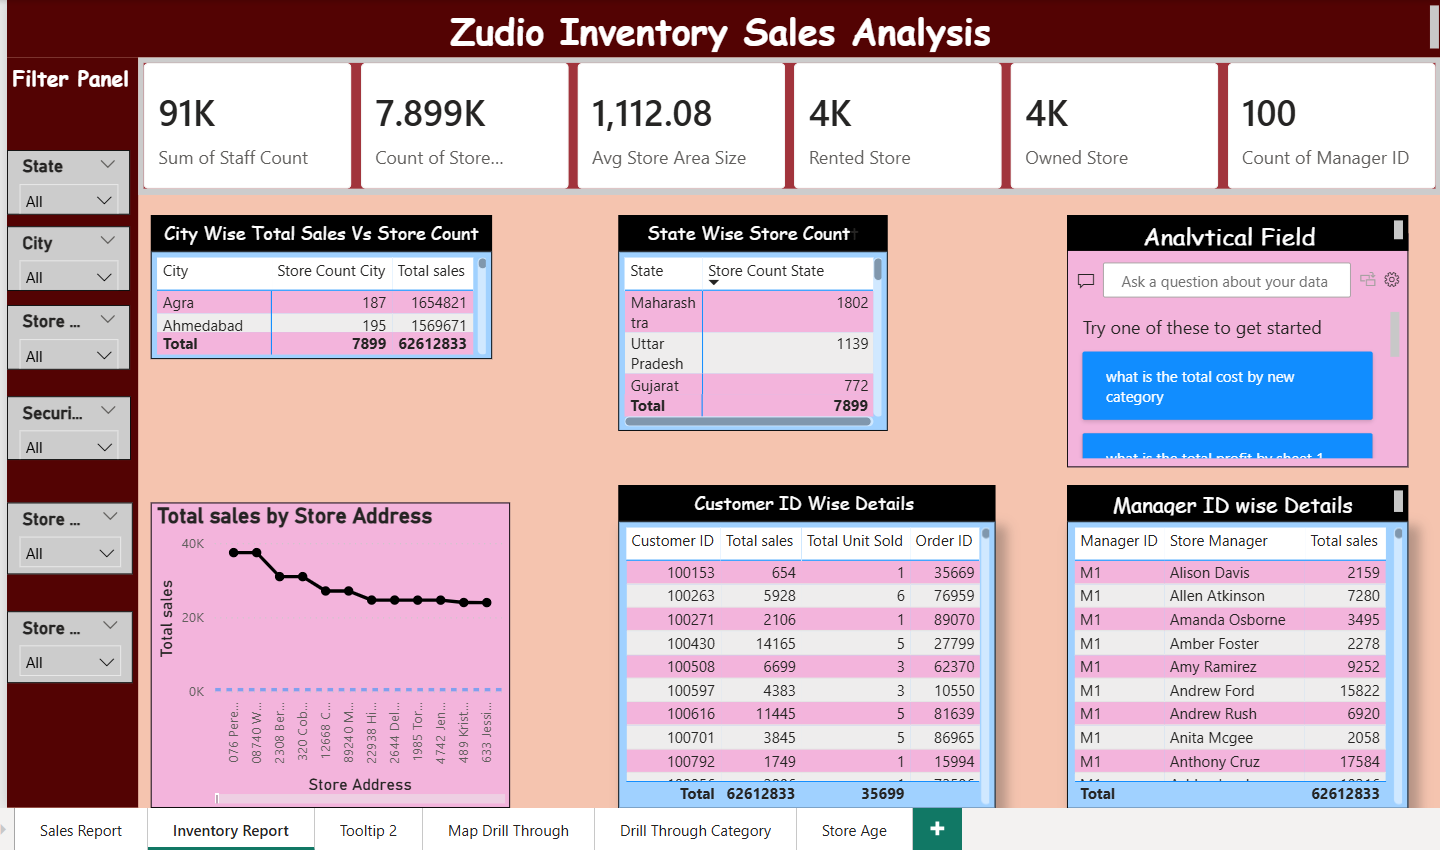

Layout of this report page (visuals, bound fields, positions):
{"tool":"powerbi","page":{"name":"Inventory Report ","canvas":[1280,720],"ordinal":1},"visuals":[{"type":"textbox","box":[0,0,1280,51.6],"z":0},{"type":"textbox","box":[0,51.6,116.7,668.2],"z":1000},{"type":"cardVisual","fields":{"Data":["Sum(New.Staff Count)","Count(Sheet1.Store Address)","New.Avg Store Area Size","Sheet1.Rented Store","Sheet1.Owned Store","Count(Sheet1.Manager ID)"]},"box":[116.7,51.6,1163.3,122.6],"z":2000},{"type":"pivotTable","fields":{"Rows":["New.State"],"Values":["Sheet1.Store Count State"]},"box":[544,224,240,160],"z":3000},{"type":"pivotTable","fields":{"Values":["Sheet1.Store Count City","New.Total sales"],"Rows":["Sheet1.City"]},"box":[128,224,304,96],"z":4000},{"type":"slicer","fields":{"Values":["New.State"]},"box":[0,133.3,109.9,57.4],"z":5000},{"type":"slicer","fields":{"Values":["Sheet1.City"]},"box":[0,201.3,109.9,57.4],"z":6000},{"type":"slicer","fields":{"Values":["Sheet1.Store Type"]},"box":[0,271.4,109.9,57.4],"z":7000},{"type":"slicer","fields":{"Values":["Sheet1.Security Features"]},"box":[0,352.9,110.2,56.9],"z":8000},{"type":"lineChart","fields":{"Category":["Sheet1.Store Address"],"Y":["New.Total sales"]},"box":[128,448,320,272],"z":9000},{"type":"tableEx","fields":{"Values":["New.Manager ID","New.Store Manager","New.Total sales"]},"box":[944,464,304,256],"z":10000},{"type":"tableEx","fields":{"Values":["New.Customer ID","New.Total sales","MeasureToggle.Total Unit Sold","New.Order ID"]},"box":[544,464,336,256],"z":11000},{"type":"slicer","fields":{"Values":["New.Store Manager"]},"box":[0,448,112,64],"z":12000},{"type":"qnaVisual","box":[944,208,304,208],"z":13000},{"type":"textbox","box":[128,192,304,32],"z":14000},{"type":"textbox","box":[544,192,240,32],"z":15000},{"type":"textbox","box":[944,192,304,32],"z":16000},{"type":"textbox","box":[544,432,336,32],"z":17000},{"type":"textbox","box":[944,432,304,32],"z":18000},{"type":"slicer","fields":{"Values":["Sheet1.Store Category"]},"box":[0,544,112,64],"z":19000}]}

Visuals, with their boxes on the page's 1280x720 design canvas (x1, y1, x2, y2). These are canvas units, not pixel positions in the 1440x850 screenshot, which may show the page scaled, cropped or inside an application window:
textbox: detection(0, 0, 1280, 52)
textbox: detection(0, 52, 117, 720)
cardVisual - Sum(New.Staff Count) x Count(Sheet1.Store Address): detection(117, 52, 1280, 174)
pivotTable - New.State x Sheet1.Store Count State: detection(544, 224, 784, 384)
pivotTable - Sheet1.Store Count City x New.Total sales: detection(128, 224, 432, 320)
slicer - New.State: detection(0, 133, 110, 191)
slicer - Sheet1.City: detection(0, 201, 110, 259)
slicer - Sheet1.Store Type: detection(0, 271, 110, 329)
slicer - Sheet1.Security Features: detection(0, 353, 110, 410)
lineChart - Sheet1.Store Address x New.Total sales: detection(128, 448, 448, 720)
tableEx - New.Manager ID x New.Store Manager: detection(944, 464, 1248, 720)
tableEx - New.Customer ID x New.Total sales: detection(544, 464, 880, 720)
slicer - New.Store Manager: detection(0, 448, 112, 512)
qnaVisual: detection(944, 208, 1248, 416)
textbox: detection(128, 192, 432, 224)
textbox: detection(544, 192, 784, 224)
textbox: detection(944, 192, 1248, 224)
textbox: detection(544, 432, 880, 464)
textbox: detection(944, 432, 1248, 464)
slicer - Sheet1.Store Category: detection(0, 544, 112, 608)
